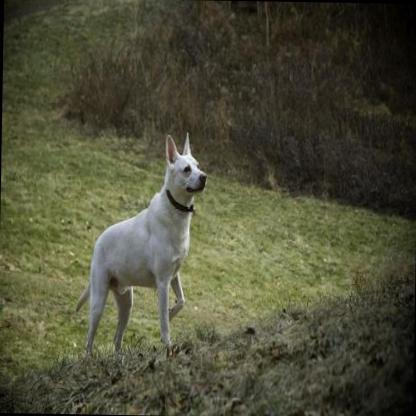dingo: (73, 128, 207, 360)
